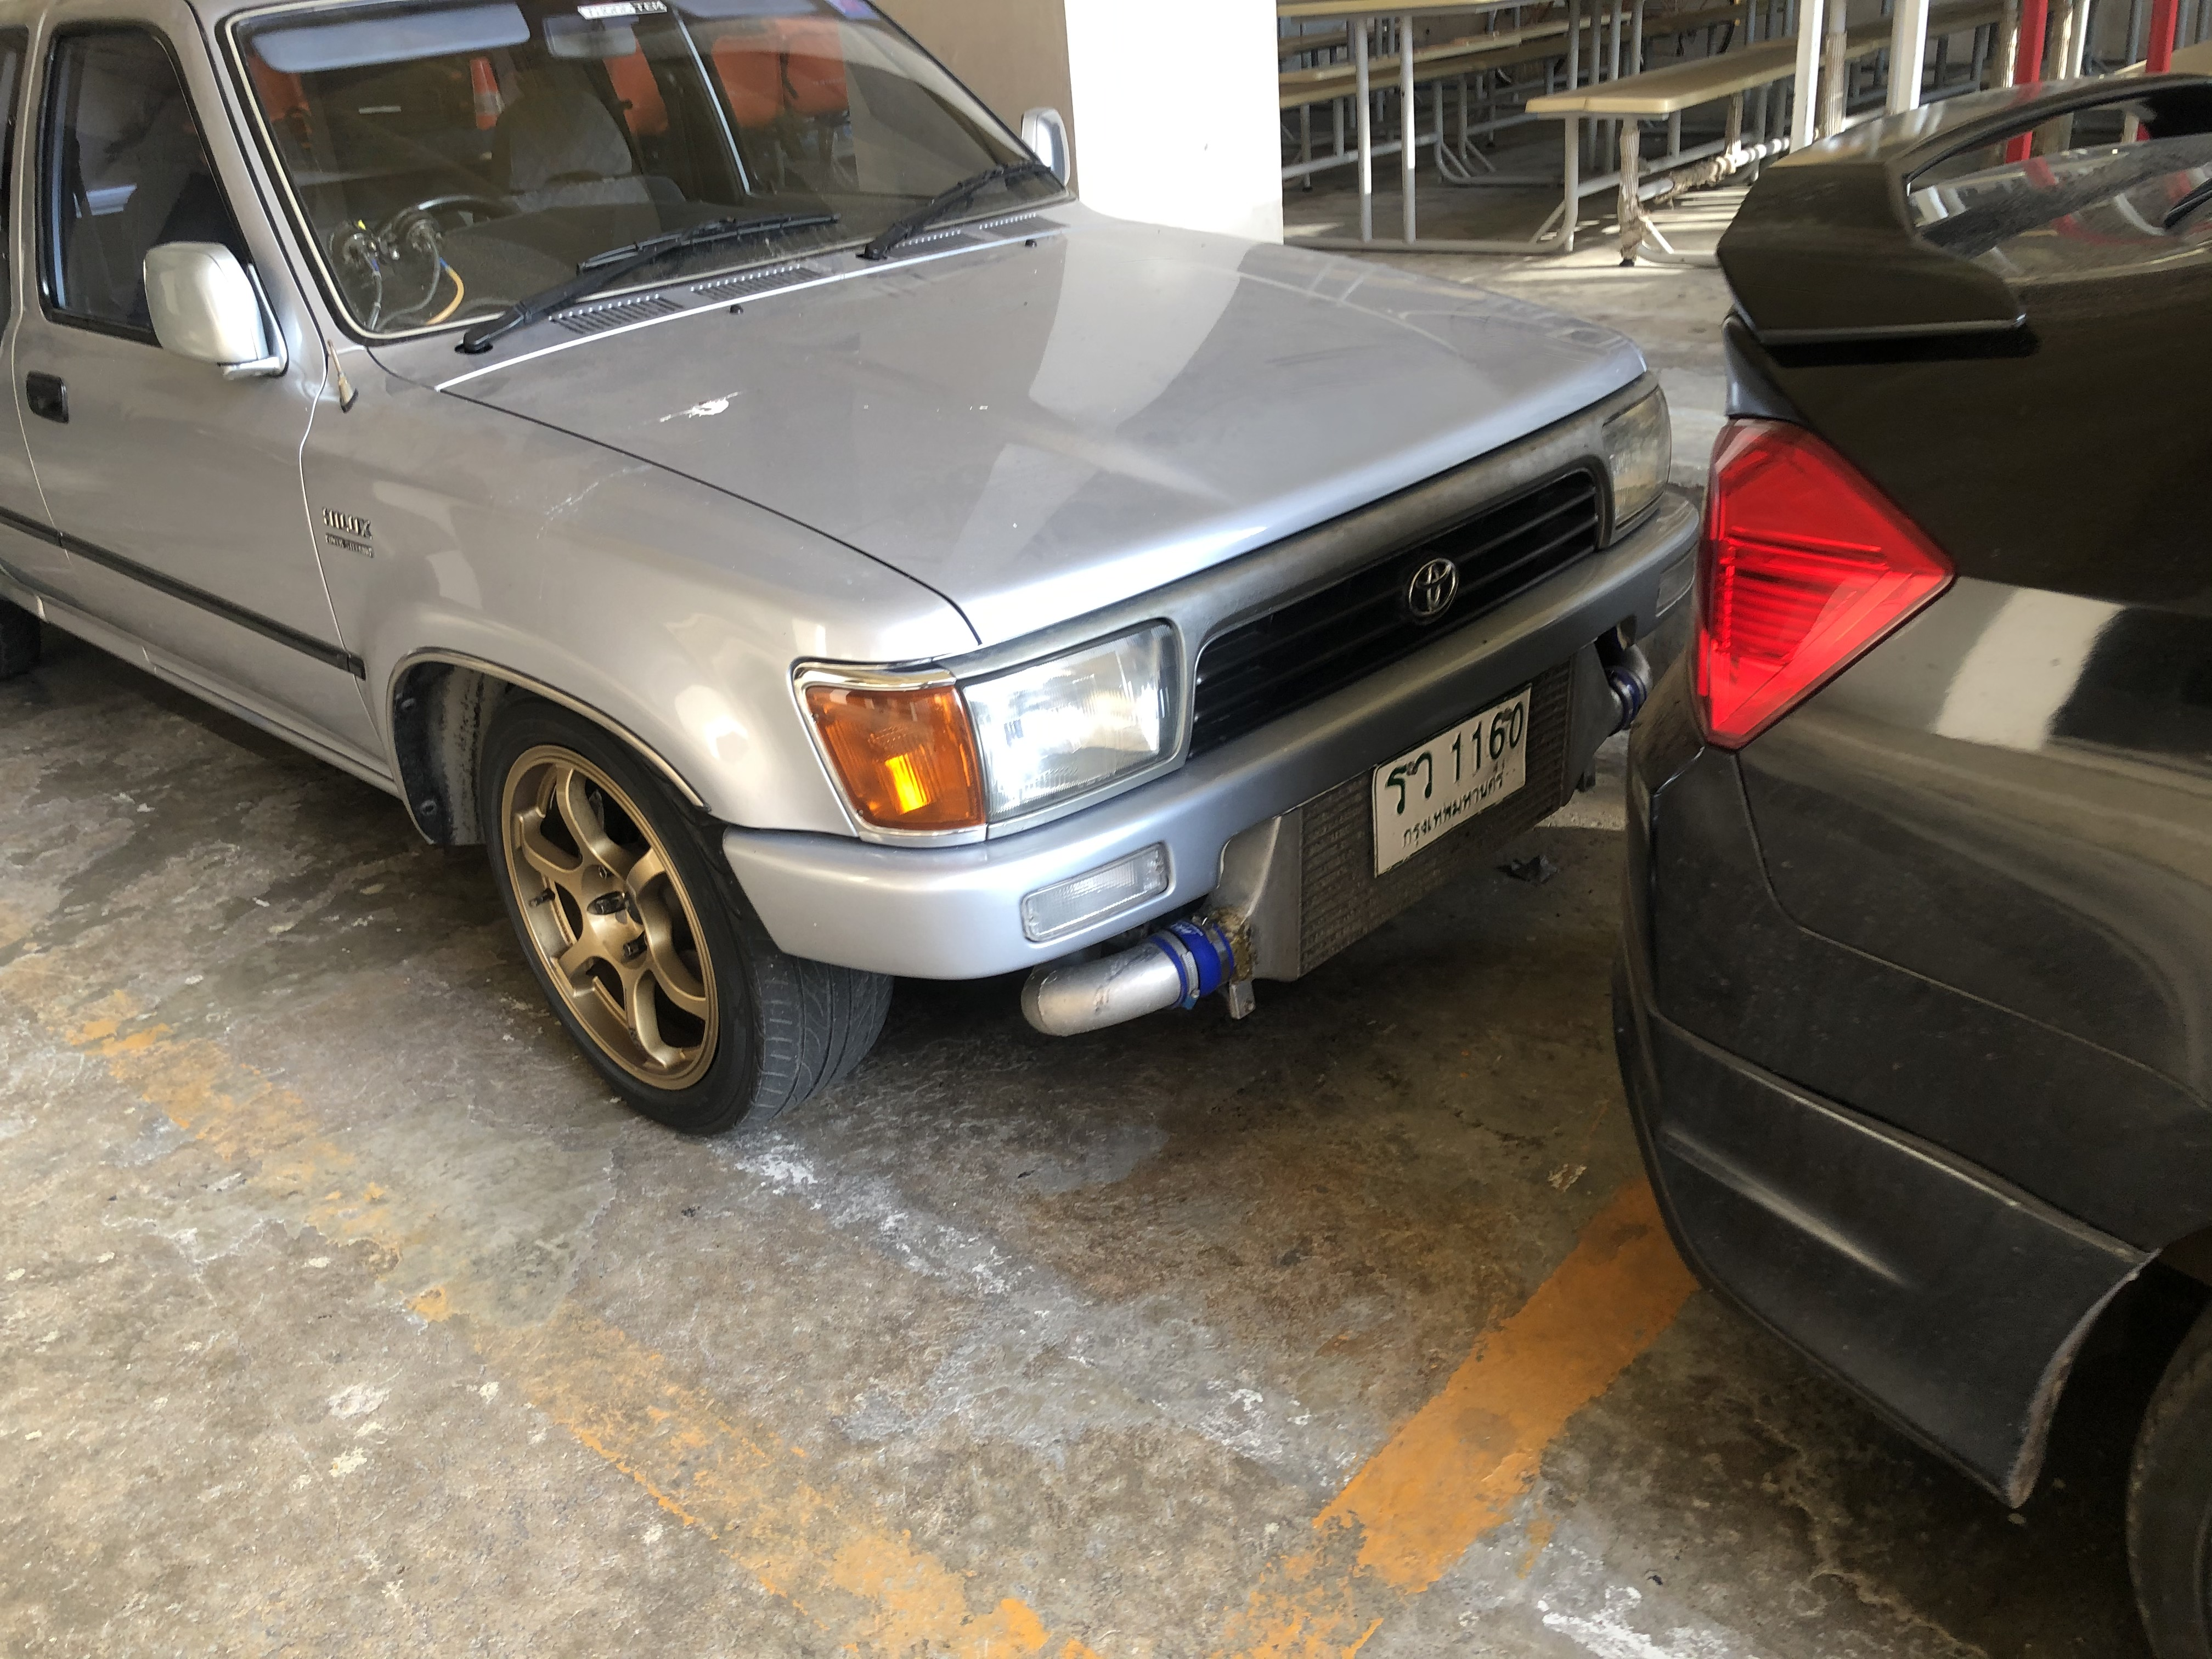in: (1378, 692, 1529, 875)
out: (1369, 678, 1536, 887)
